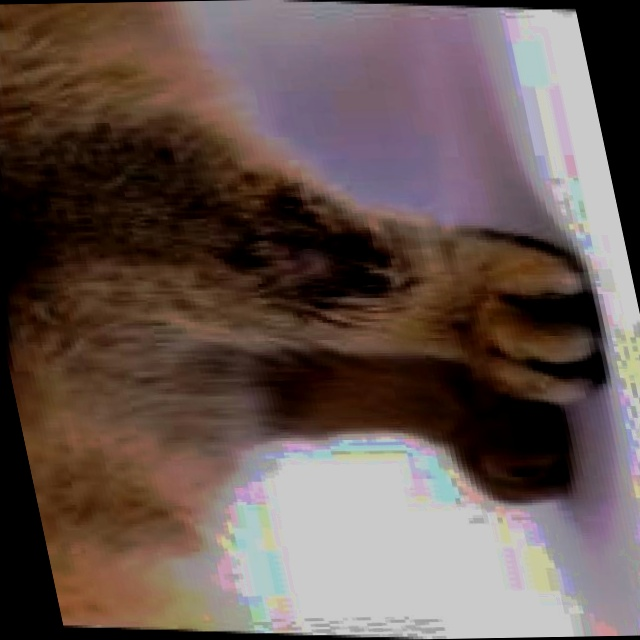ringworm: (234, 225, 380, 285)
